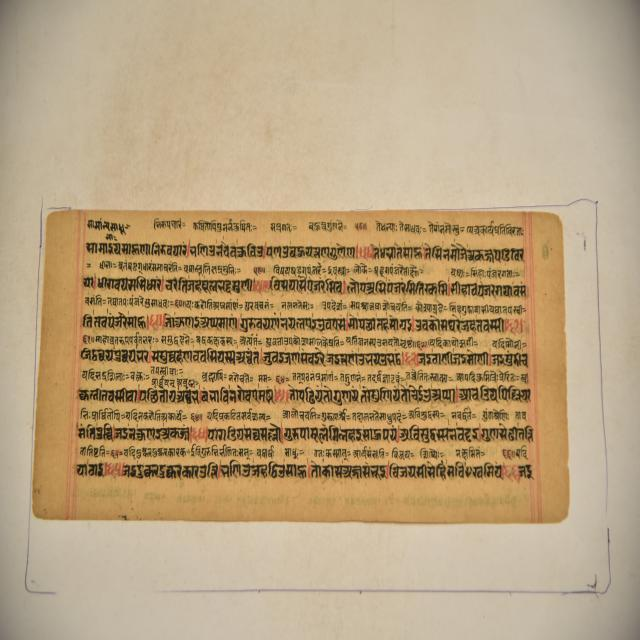text_paragraph: (31, 210, 569, 520)
